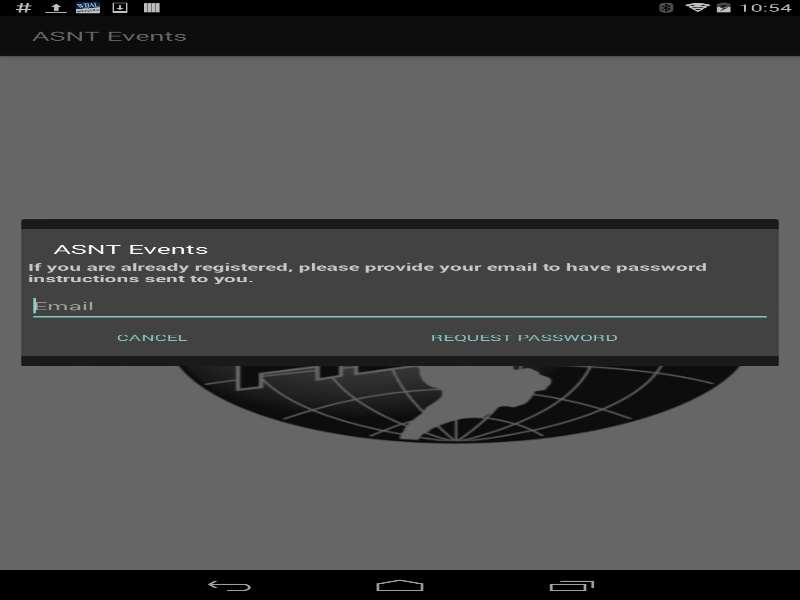Button: (276, 321, 772, 353), (28, 321, 276, 353)
Input: (28, 290, 772, 321)
